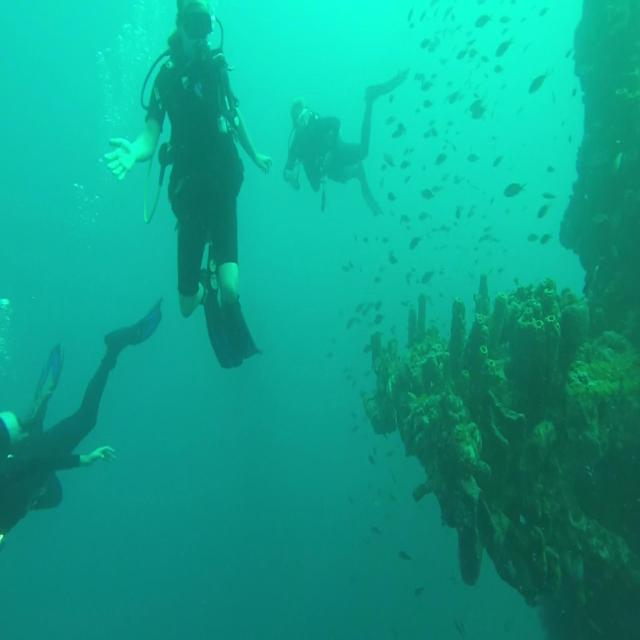human: (104, 0, 273, 369), (0, 294, 163, 546), (283, 64, 410, 217)
